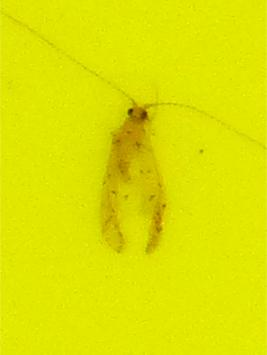Plecoptera: (100, 100, 167, 255)
